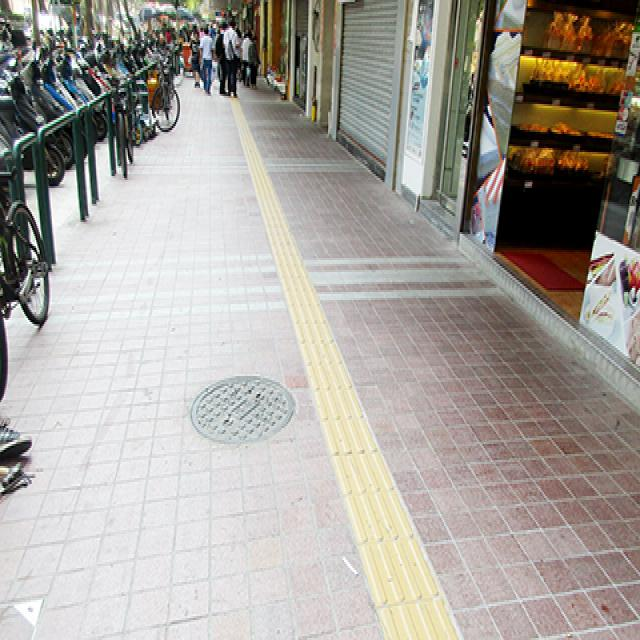tactile-guide-path: (229, 96, 464, 638)
